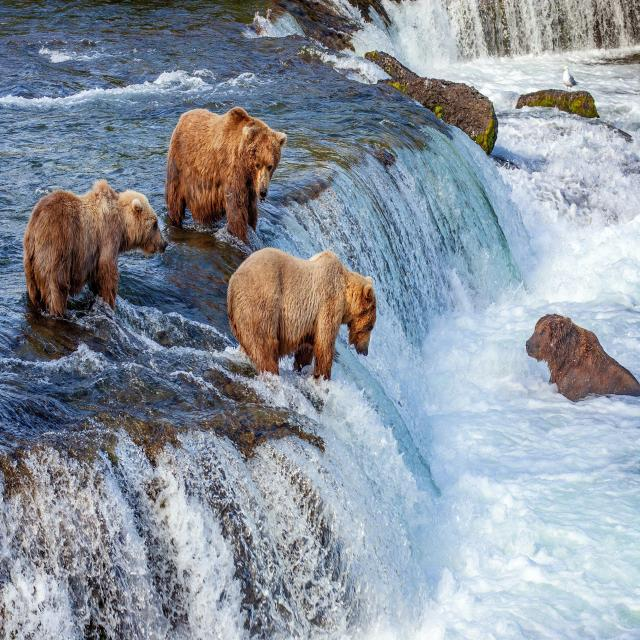Bear: (225, 248, 378, 384), (22, 182, 167, 323), (164, 108, 286, 251), (525, 315, 640, 405)
